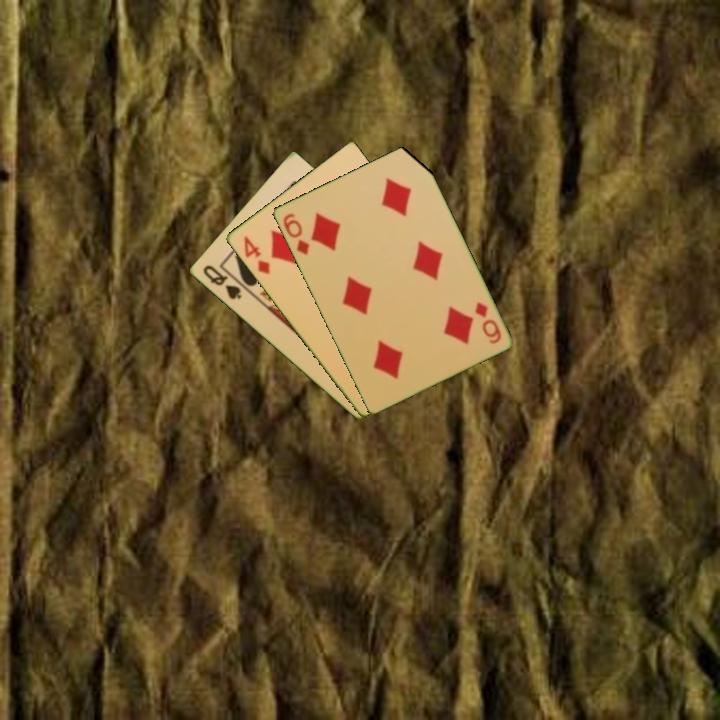4d: (240, 232, 273, 277)
6d: (471, 298, 504, 347), (279, 210, 312, 258)
Qs: (199, 261, 244, 303)
